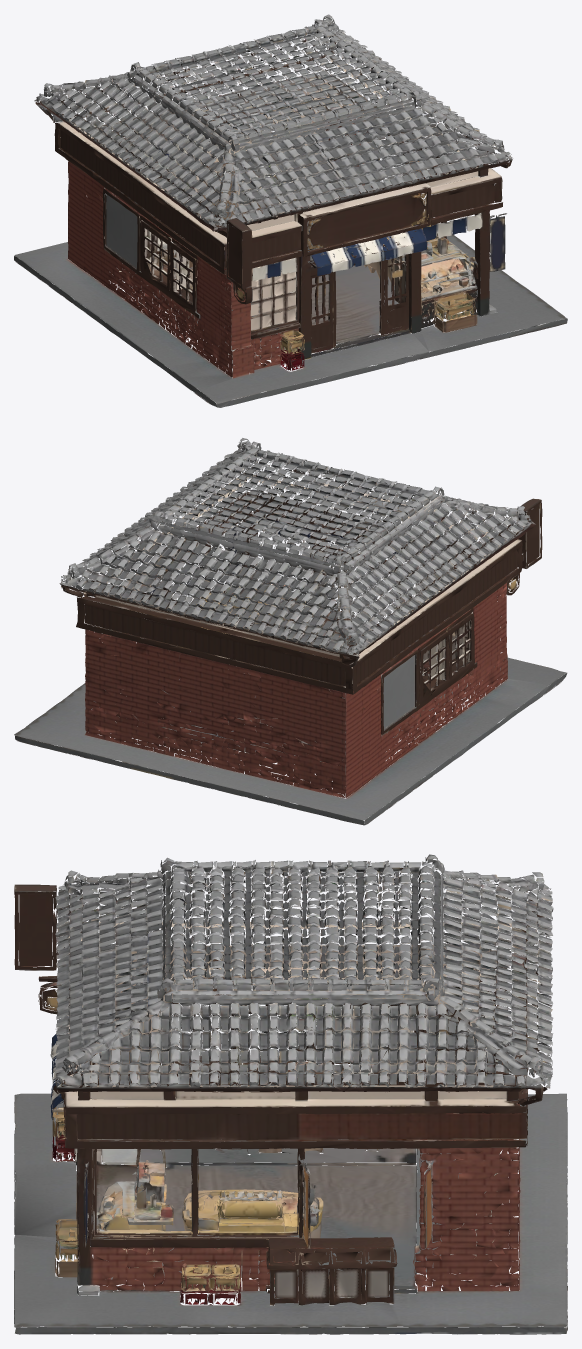
Rendered from tea-house-exterior.glb.
3 views of the same model, one above another, from view 1: azimuth 30°, elevation 25°; view 2: azimuth 150°, elevation 25°; view 3: azimuth 270°, elevation 25° (orthographic). The views are drawn at different scales.
Parts seen in each view (by area): view 1: Supplied tea-house; view 2: Supplied tea-house; view 3: Supplied tea-house.
Part boxes in pixels (x1,y1,x2,y2): Supplied tea-house: (14,14,567,407); Supplied tea-house: (14,438,567,825); Supplied tea-house: (14,854,567,1334).
Bounding box in the file's own units: 7.61 × 4.47 × 7.62.
1 material, 1 textured.
